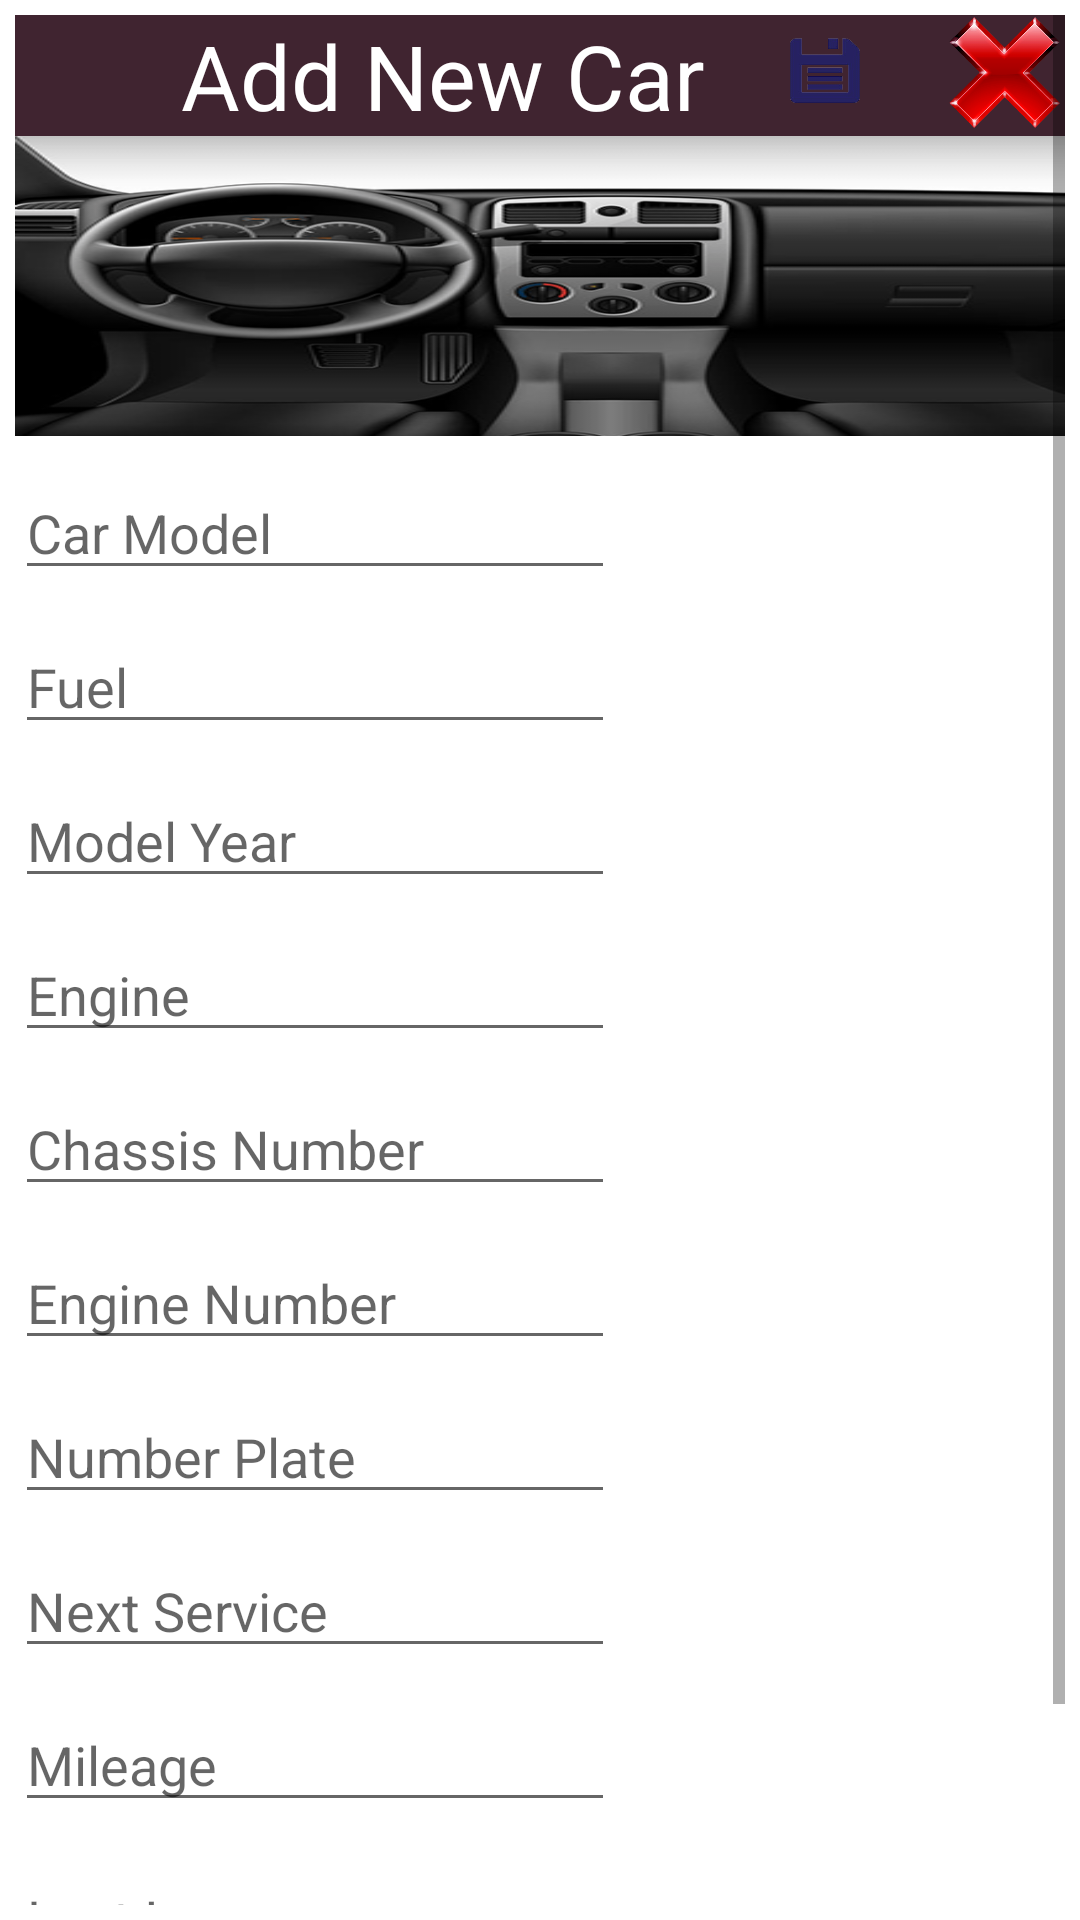

Named icons in this screenshot (1080x1920) and their bounding boxes, (x1, y1, x2, y2):
cancelicon: (950, 17, 1060, 128)
save: (790, 38, 860, 103)
